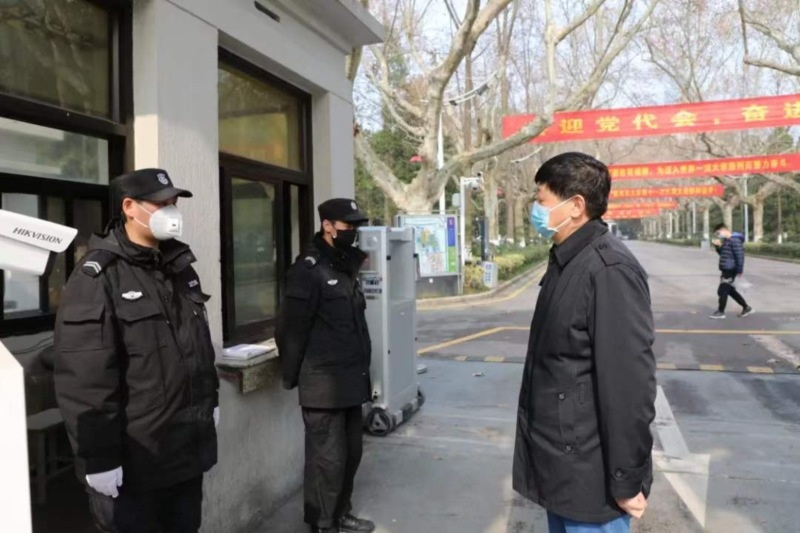correctlyWear: (120, 187, 193, 241), (527, 182, 587, 242), (321, 210, 369, 249), (715, 226, 729, 238)
